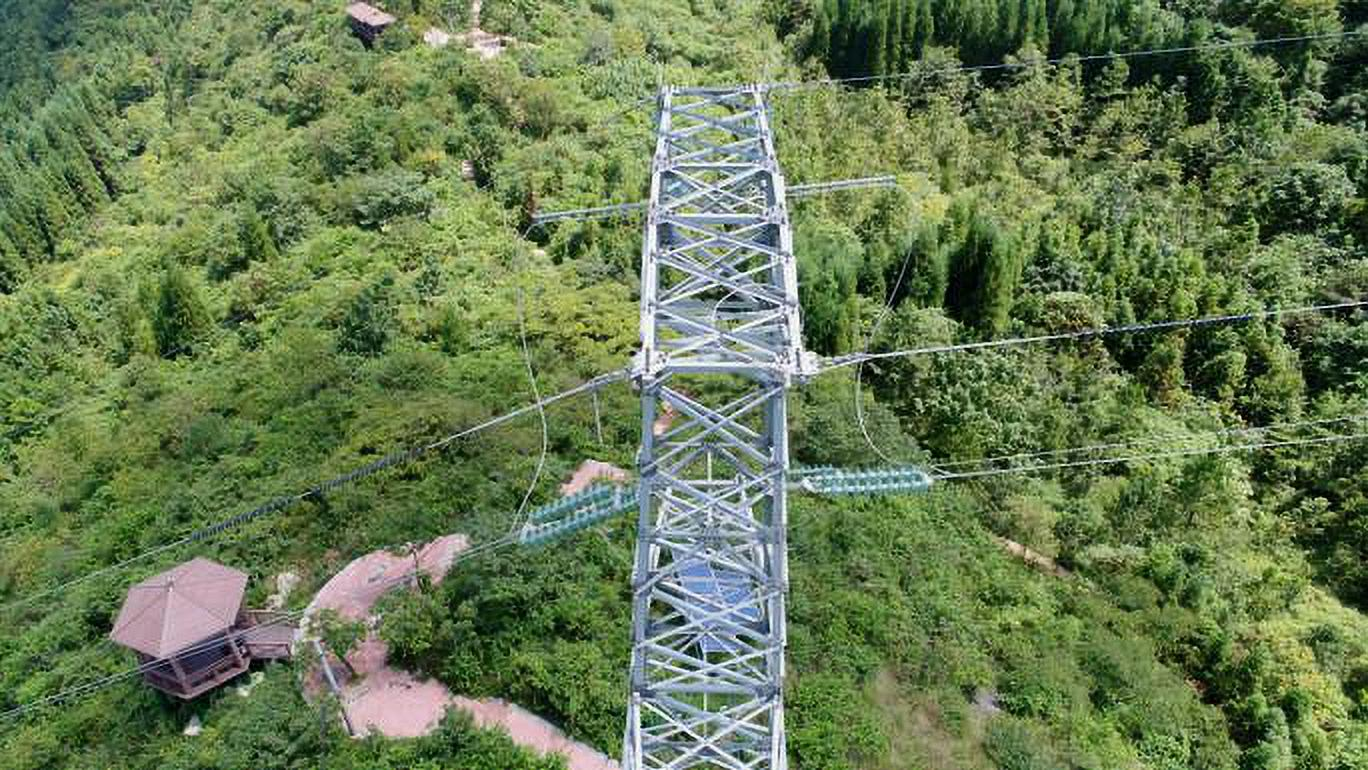insulator: (517, 477, 643, 549), (794, 458, 933, 503)
